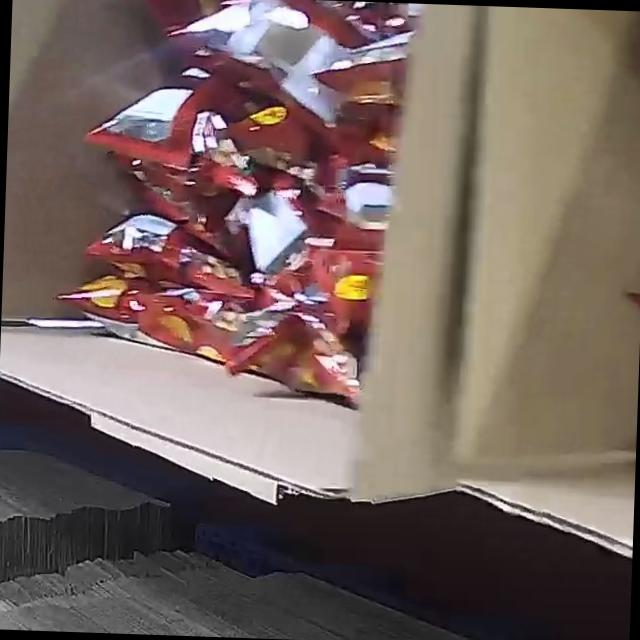masala: (47, 0, 430, 404)
